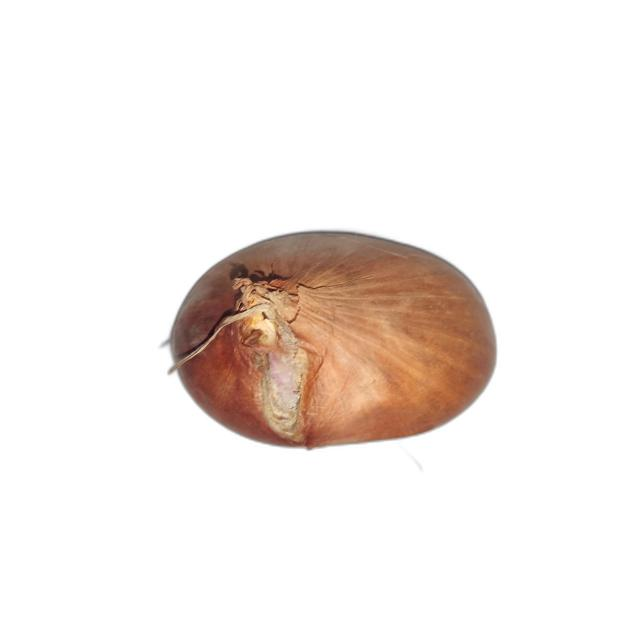onion: (165, 229, 499, 452)
